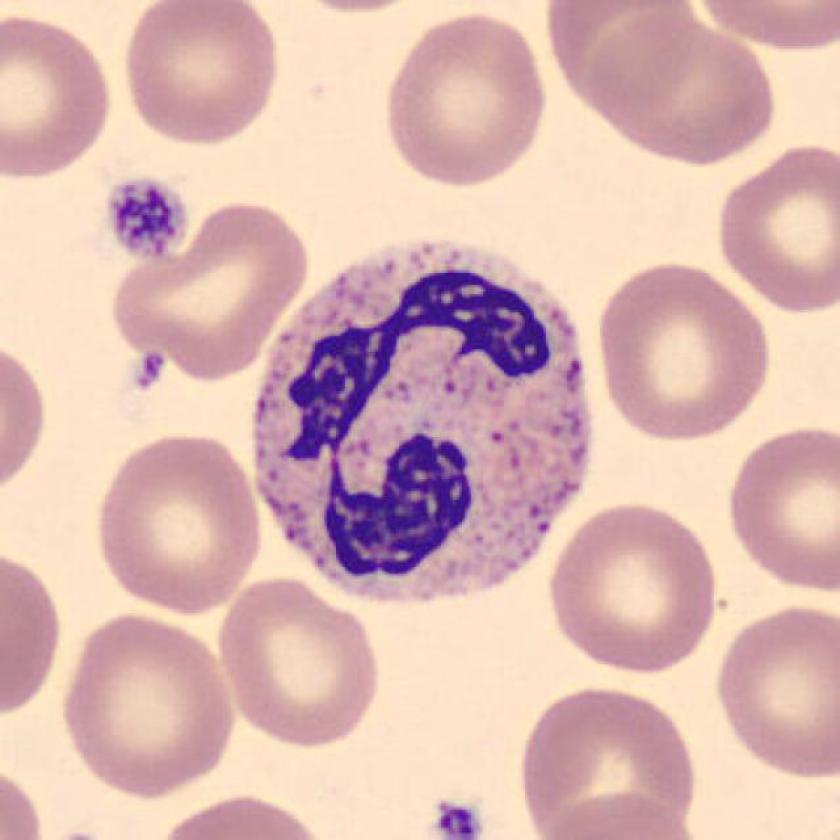neutrophil: (258, 248, 594, 603)
